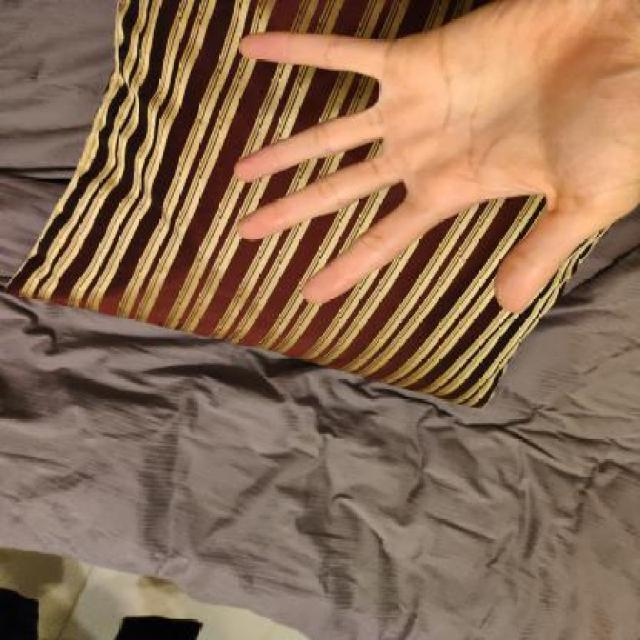bare_hand: (207, 0, 638, 329)
